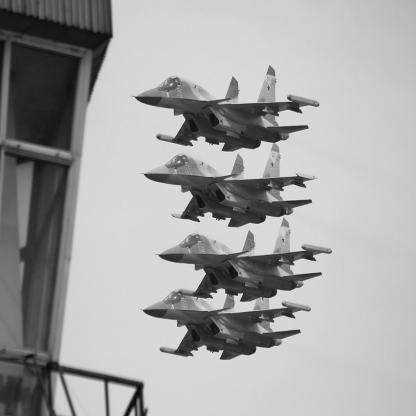Su34: (131, 65, 321, 153), (155, 217, 333, 303), (140, 144, 319, 229), (139, 290, 312, 361)
